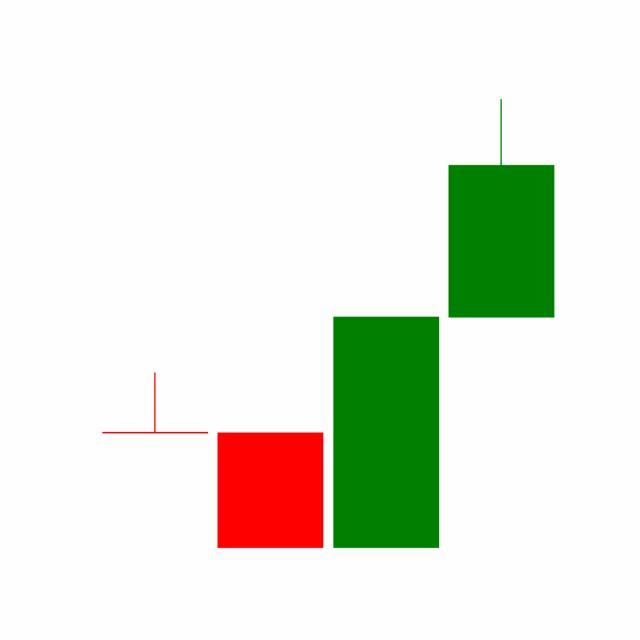Marubozu: (329, 315, 445, 552)
